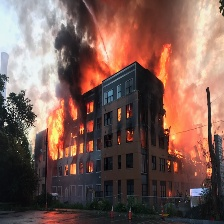fire: (157, 42, 196, 173), (47, 102, 97, 174)
smoke: (35, 1, 207, 96)
